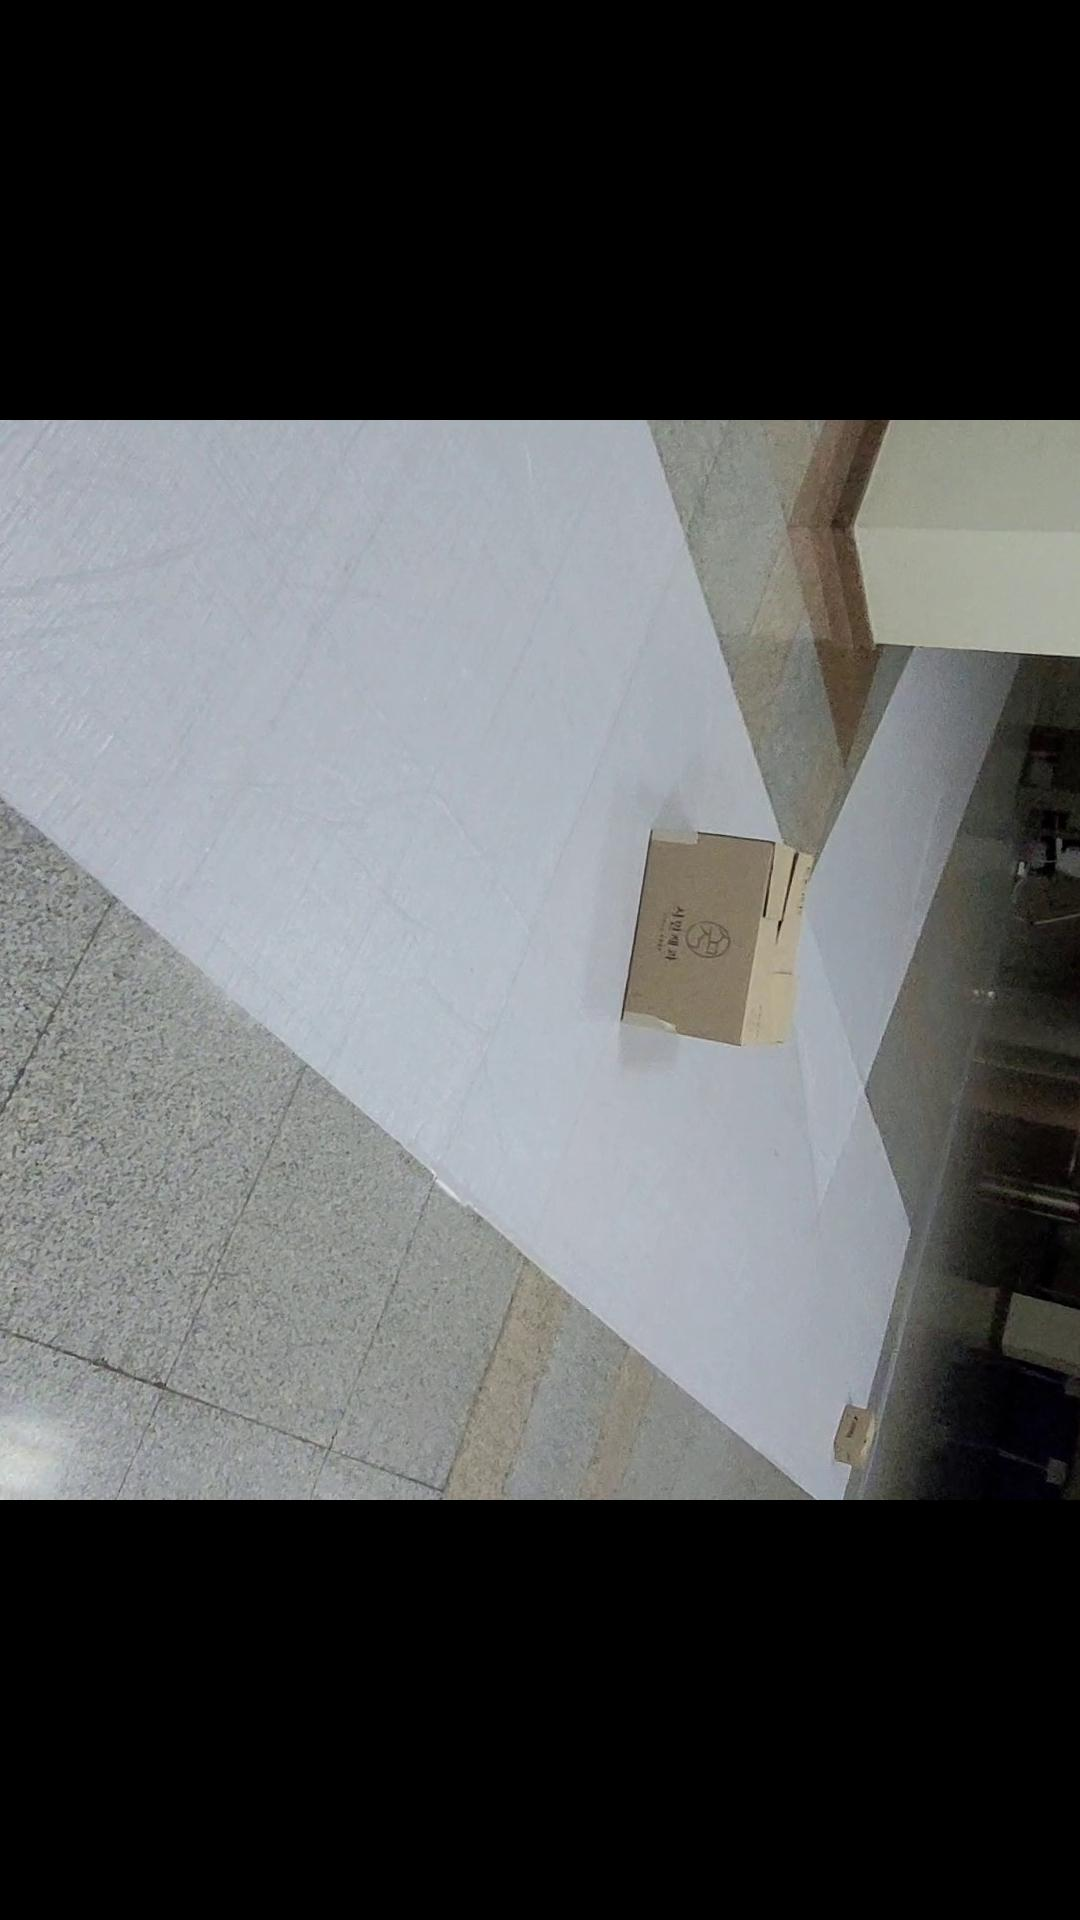Box: (575, 775, 843, 1102), (814, 1398, 895, 1489)
